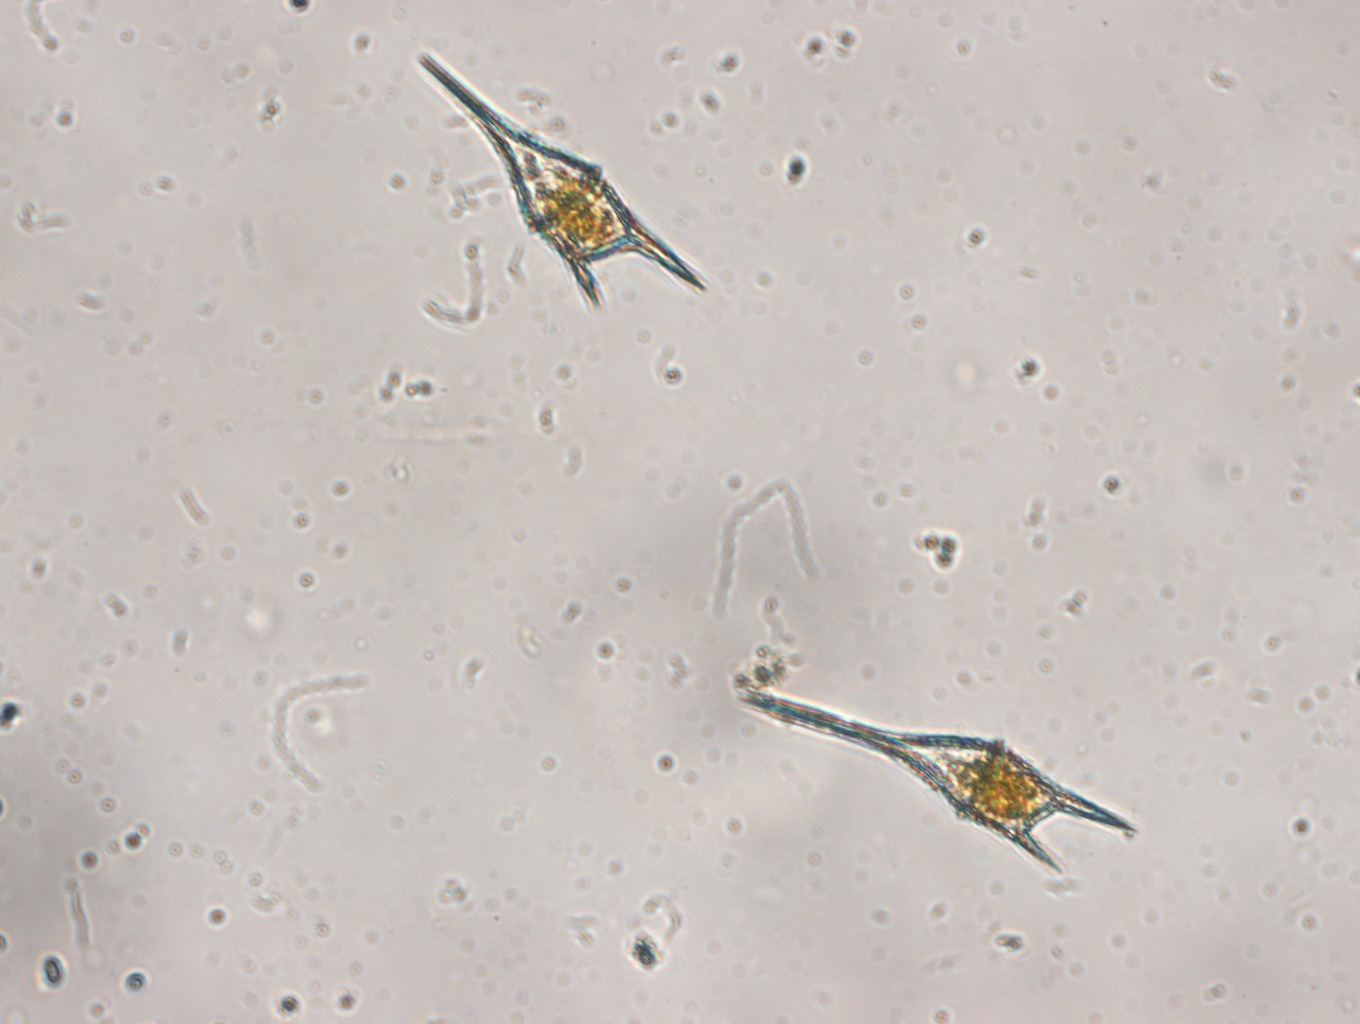ceratium furca: (411, 44, 708, 315), (739, 679, 1140, 874)
